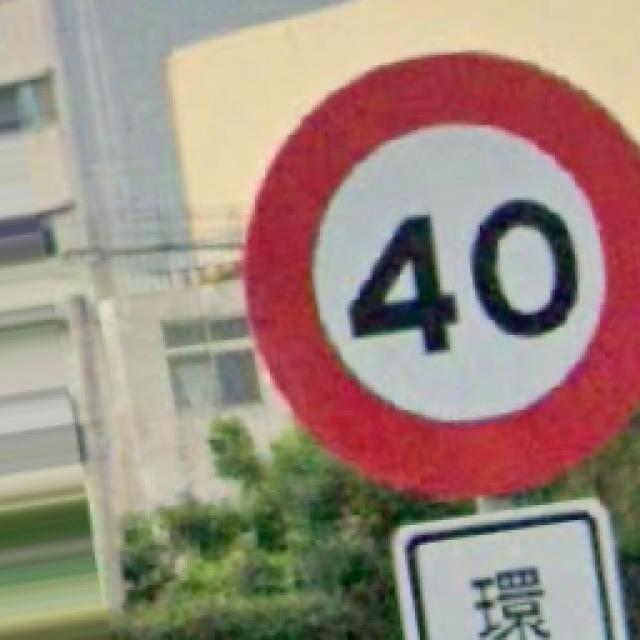Speed Limit -40-: (248, 52, 638, 495)
